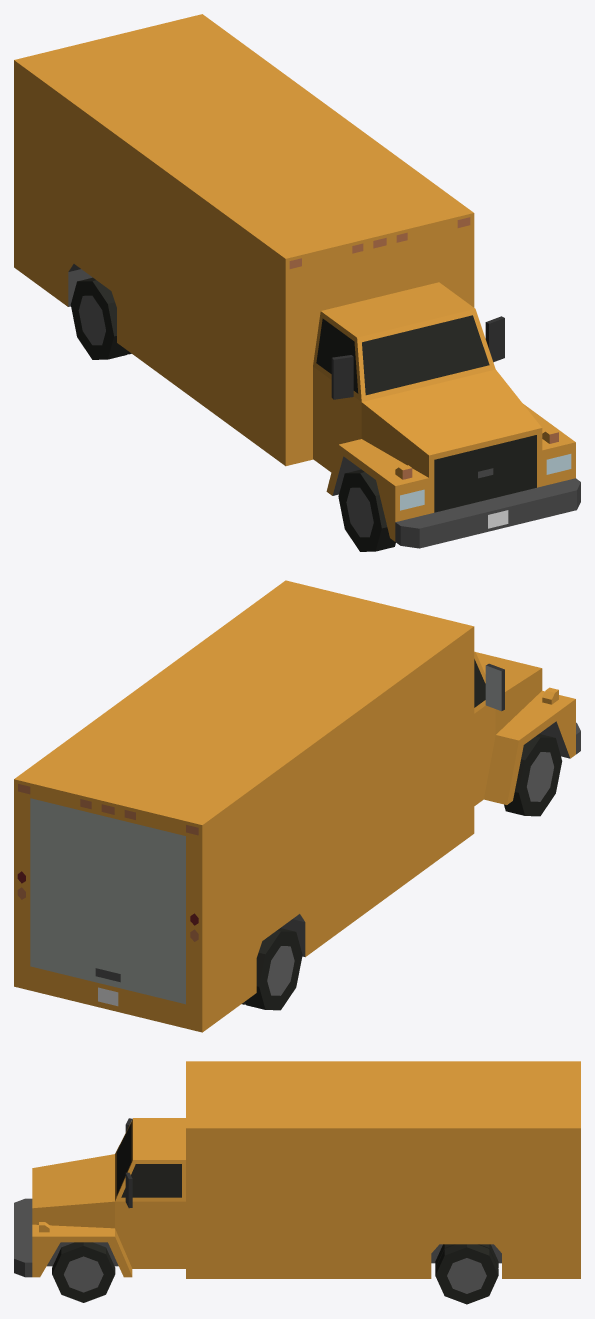
Rendered from Veh_Truck_01_Yellow.glb.
3 renders of one model, top to bottom at view 1: azimuth 30°, elevation 25°; view 2: azimuth 150°, elevation 25°; view 3: azimuth 270°, elevation 25°, orthographic. The views are drawn at different scales.
Visible parts, largest first — view 1: Truck_01_Yellow, Wheel_RR, Wheel_FR; view 2: Truck_01_Yellow, Wheel_RR, Wheel_FR; view 3: Truck_01_Yellow, Wheel_RL, Wheel_FL.
Boxes of the visible parts, <box> form: Truck_01_Yellow: <box>14,14,580,548</box>; Wheel_RR: <box>70,277,131,359</box>; Wheel_FR: <box>338,469,395,551</box>; Truck_01_Yellow: <box>14,580,580,1032</box>; Wheel_RR: <box>242,928,302,1010</box>; Wheel_FR: <box>504,734,562,816</box>; Truck_01_Yellow: <box>14,1061,580,1278</box>; Wheel_RL: <box>435,1244,498,1304</box>; Wheel_FL: <box>52,1242,115,1302</box>.
Bounding box in the file's own units: 1.35 × 1.66 × 4.85.
Materials: 1 (1 with a texture image).
